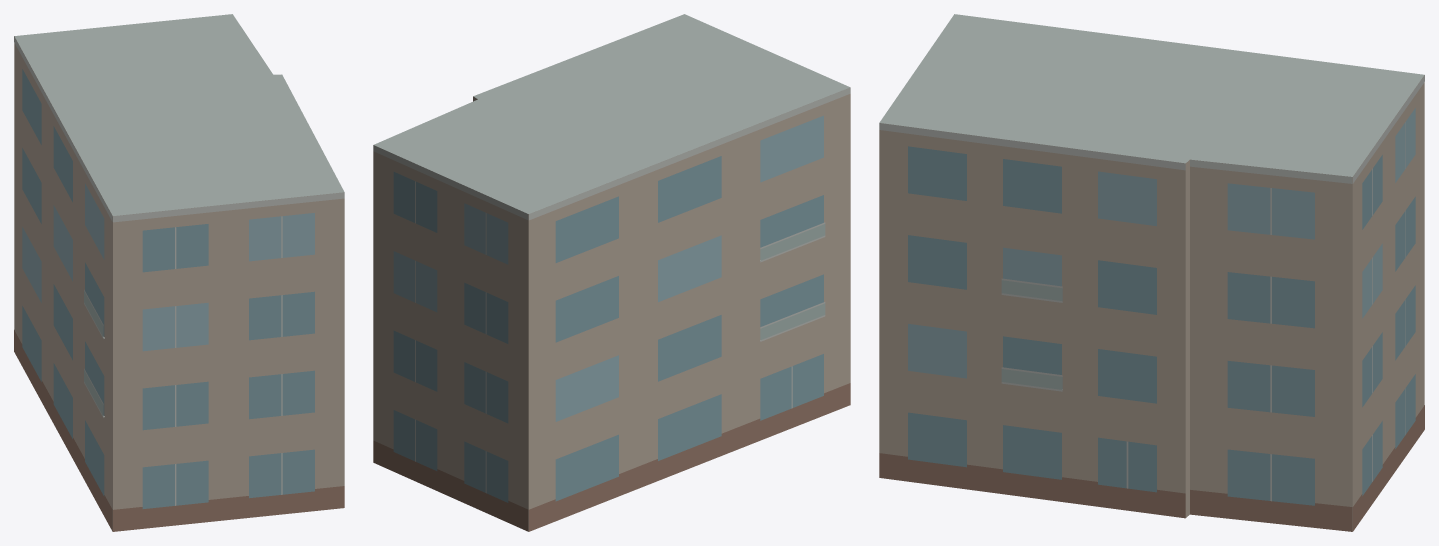
The model's file is survey-upis-32631190.glb.
3 views of the same model, side by side, from view 1: azimuth 30°, elevation 25°; view 2: azimuth 150°, elevation 25°; view 3: azimuth 270°, elevation 25° (orthographic). The views are drawn at different scales.
Parts seen in each view (by area): view 1: survey-upis-32631190.tmp; view 2: survey-upis-32631190.tmp; view 3: survey-upis-32631190.tmp.
Part boxes in pixels (<box>): survey-upis-32631190.tmp: <box>14,14,344,531</box>; survey-upis-32631190.tmp: <box>373,14,850,531</box>; survey-upis-32631190.tmp: <box>879,14,1424,531</box>.
Size of the model in its own units: 12.12 by 12.3 by 17.14.
